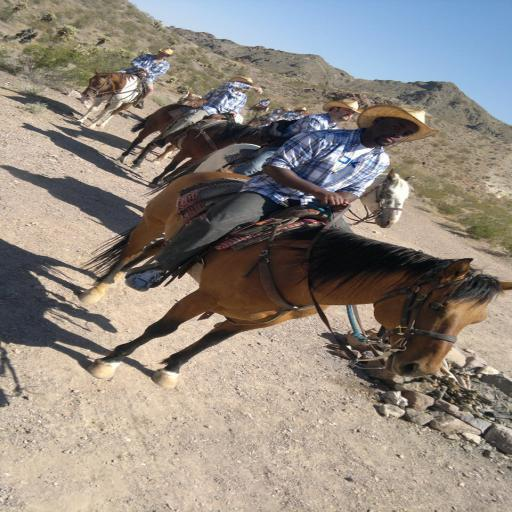horse: (79, 172, 512, 388), (135, 142, 417, 228), (114, 104, 263, 190), (132, 92, 244, 166), (80, 68, 146, 128)
